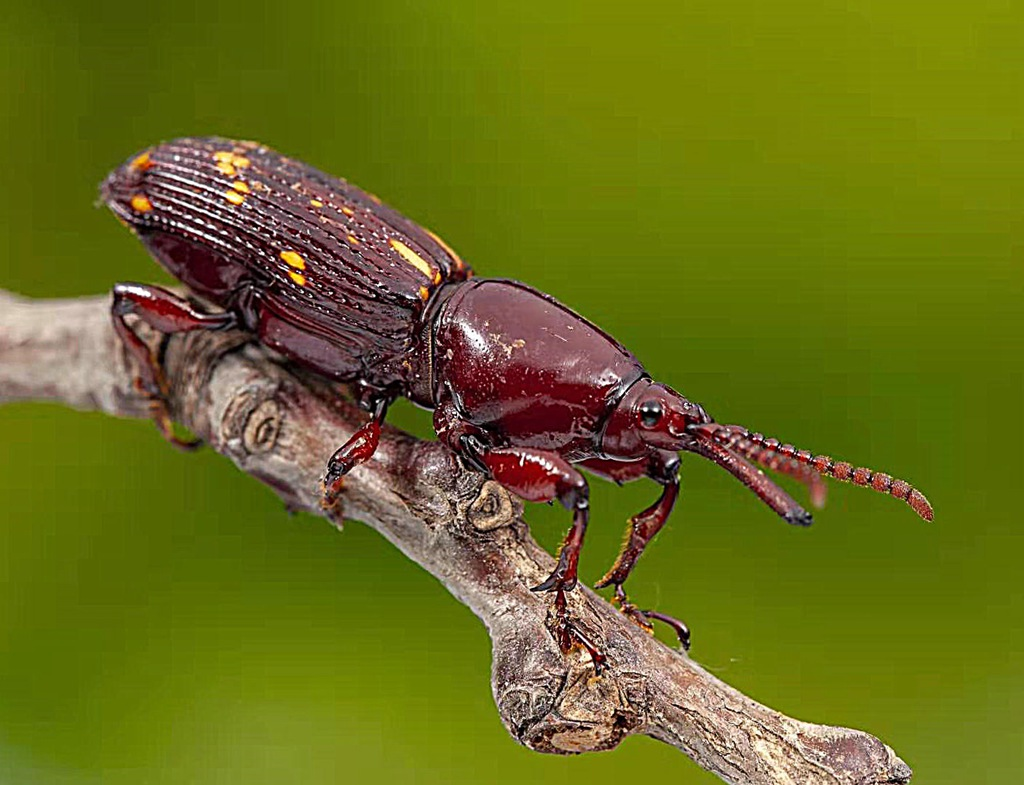Curculionidae: (92, 133, 935, 679)
